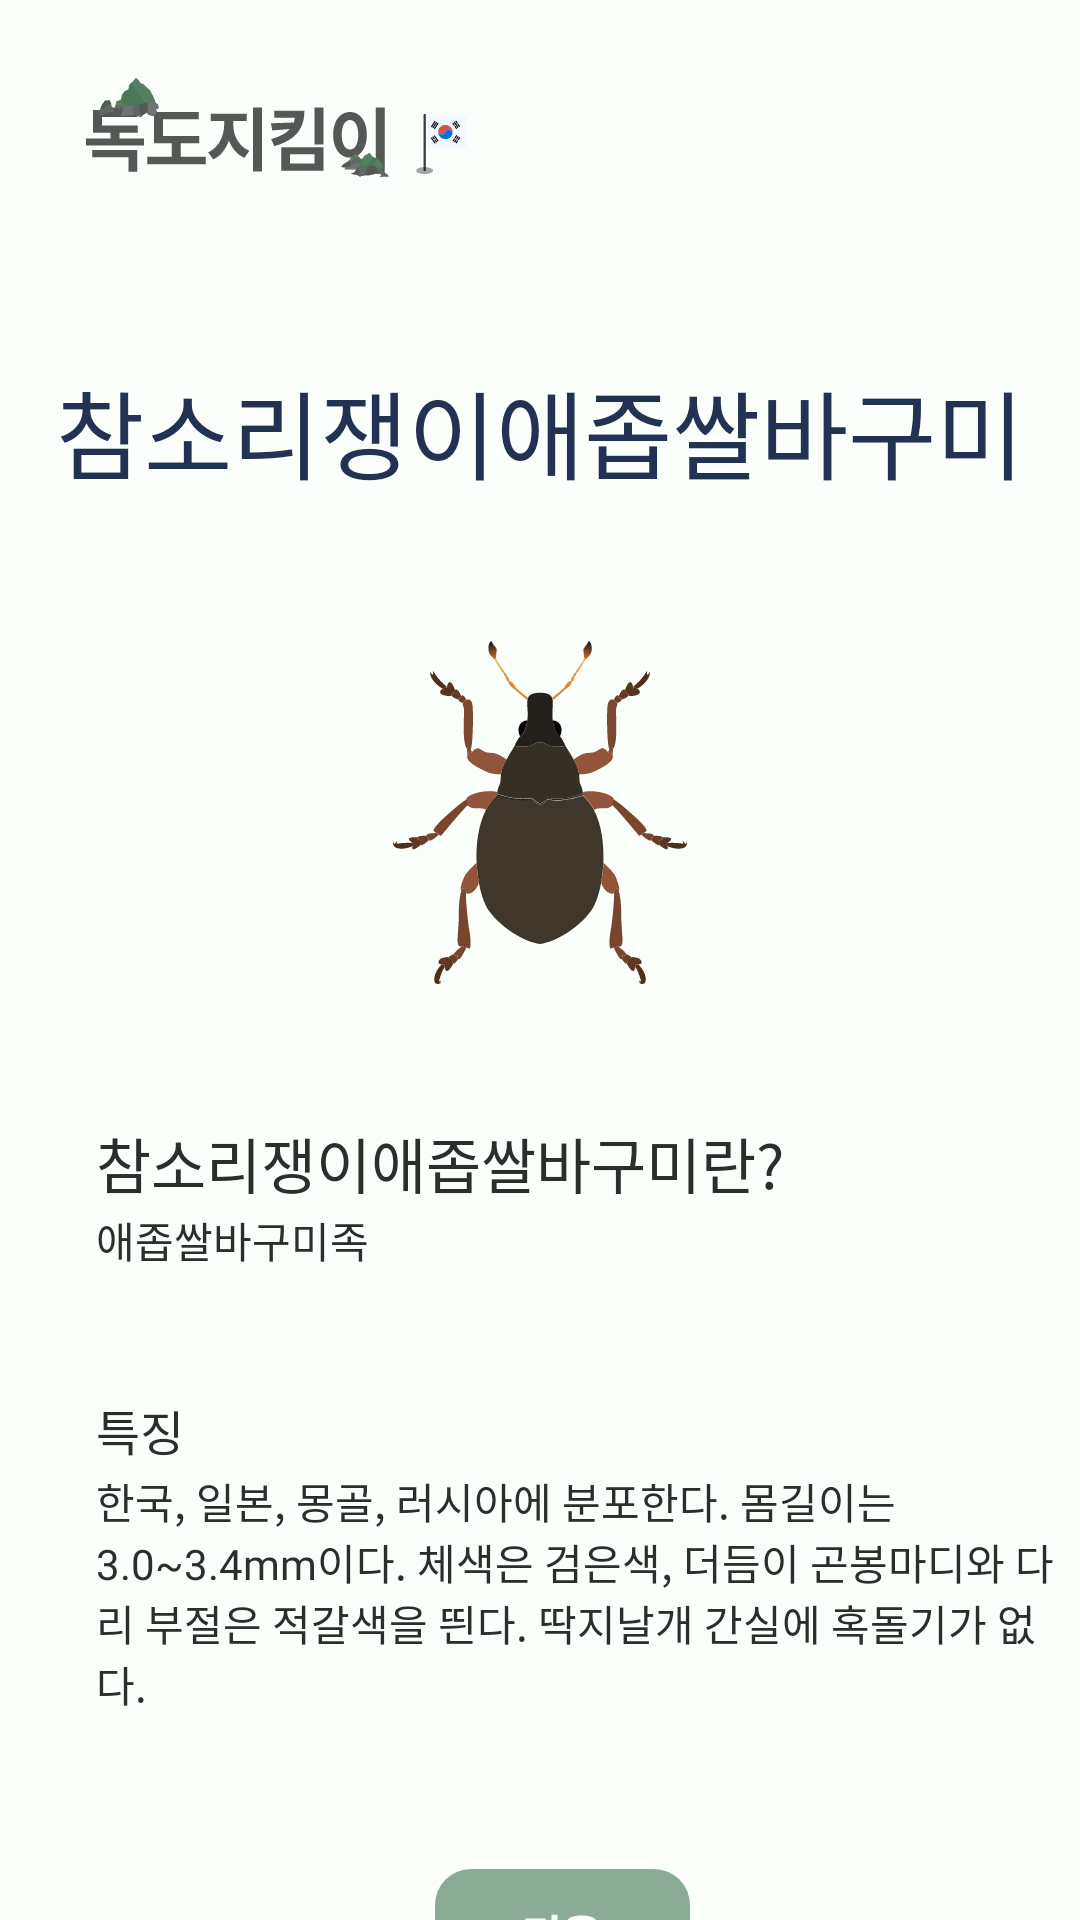

Named icons in this screenshot (1080px×1920px) and their centers, point (x, y):
insect: point (540, 812)
